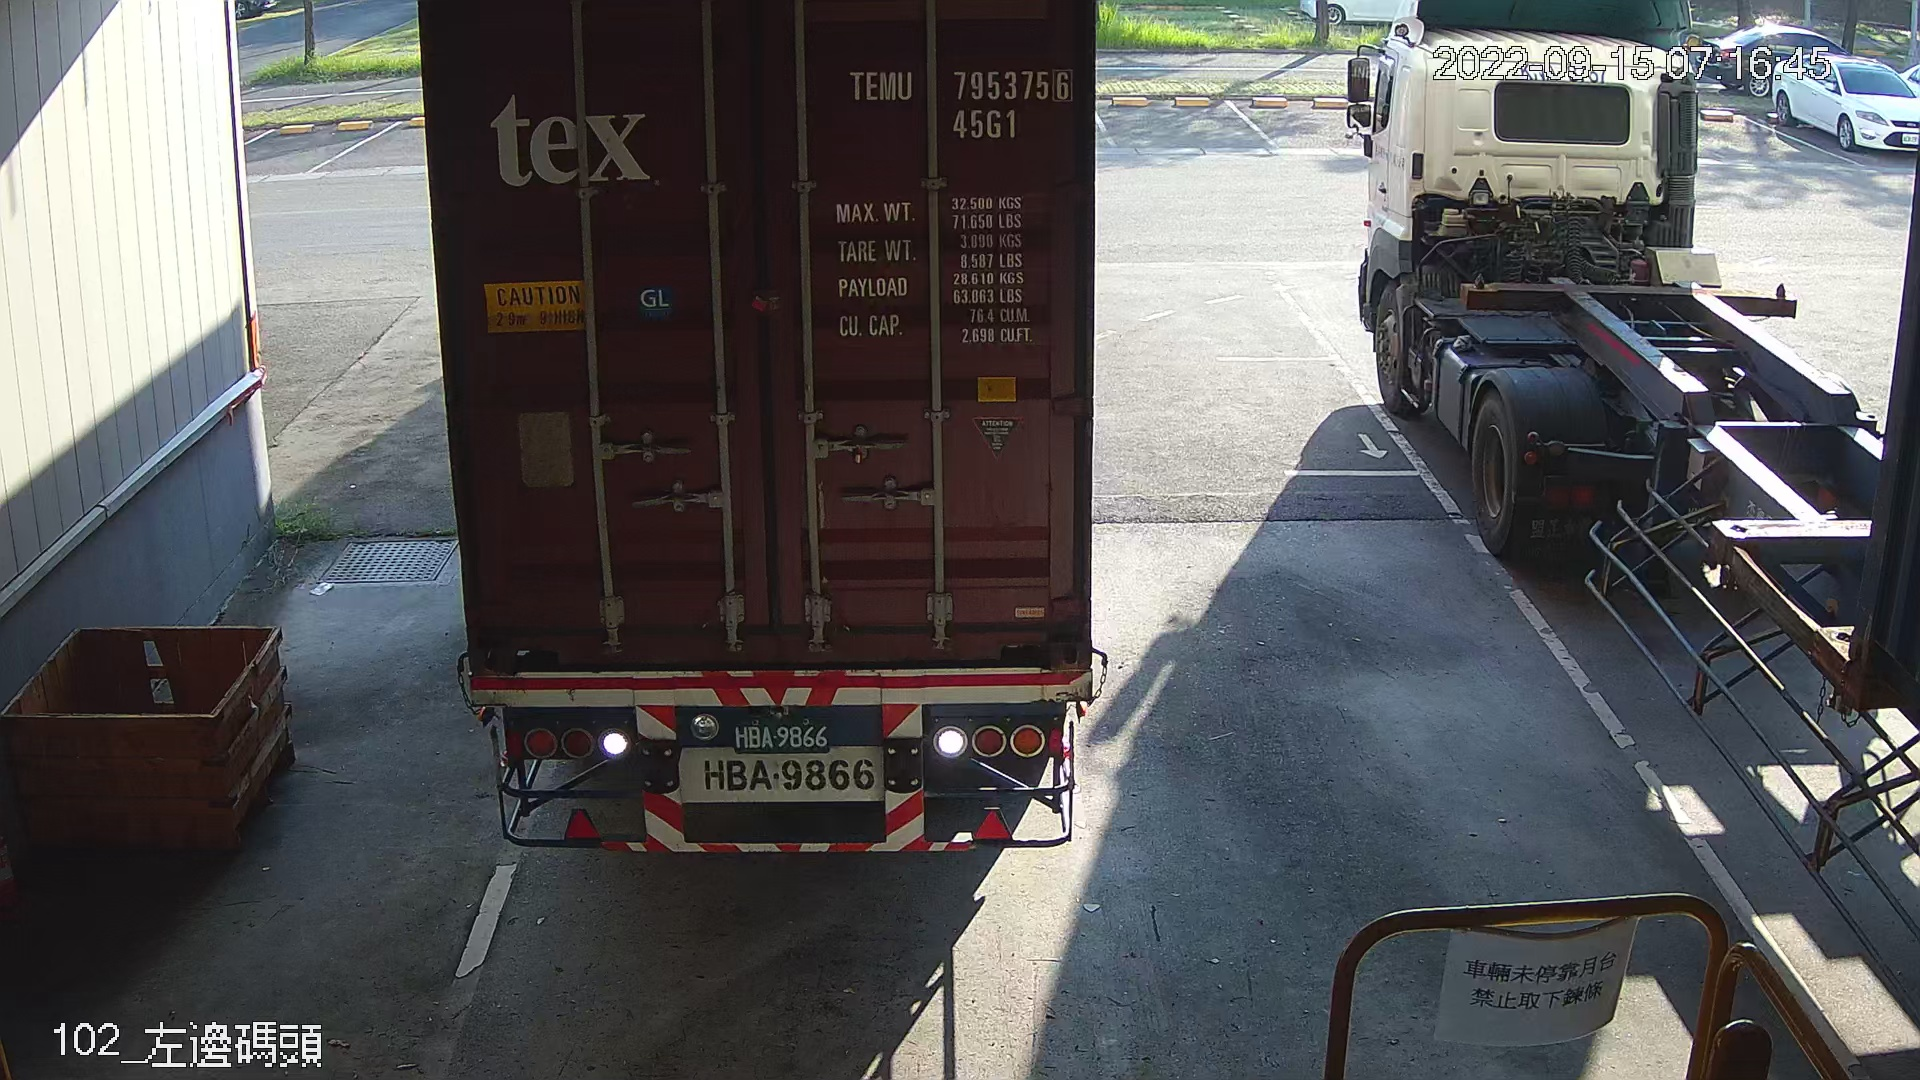container: (837, 55, 1083, 149)
